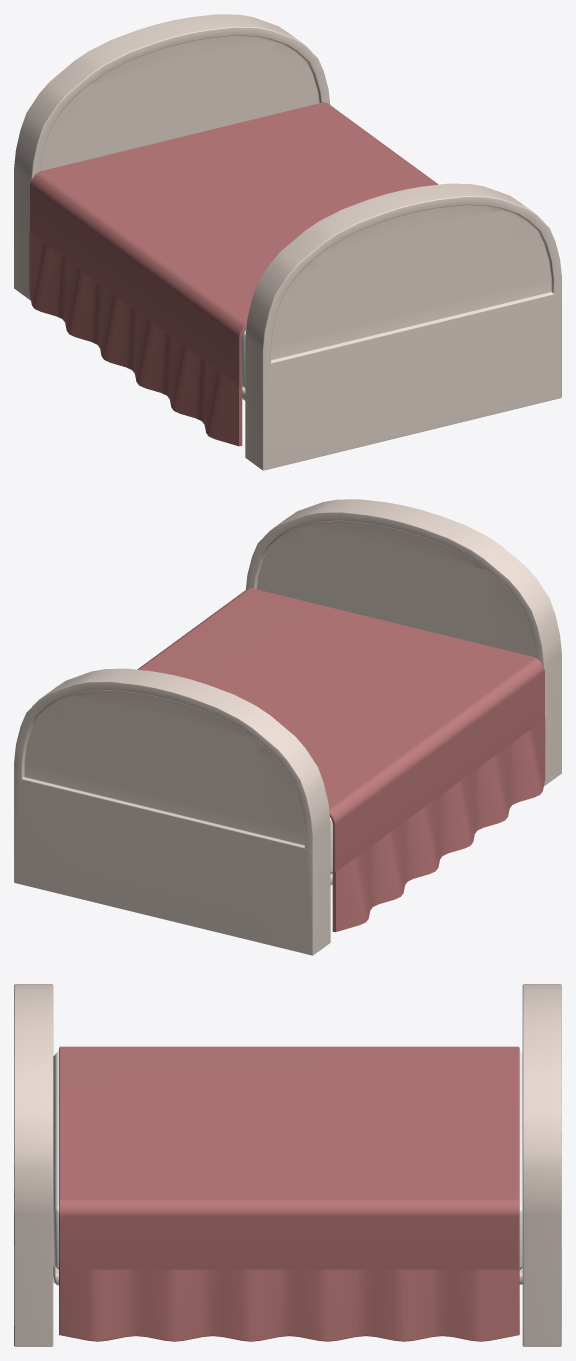
The model's file is Bed_2.glb.
3 renders of one model, top to bottom at view 1: azimuth 30°, elevation 25°; view 2: azimuth 150°, elevation 25°; view 3: azimuth 270°, elevation 25°, orthographic. The views are drawn at different scales.
Visible parts, largest first — view 1: Bed_2; view 2: Bed_2; view 3: Bed_2.
Part boxes in pixels (x1,y1,x2,y2): Bed_2: (14, 14, 561, 470); Bed_2: (14, 499, 561, 955); Bed_2: (14, 984, 561, 1346).
Size of the model in its own units: 1.9 by 1.27 by 2.5.
Materials: 1 (1 with a texture image).
